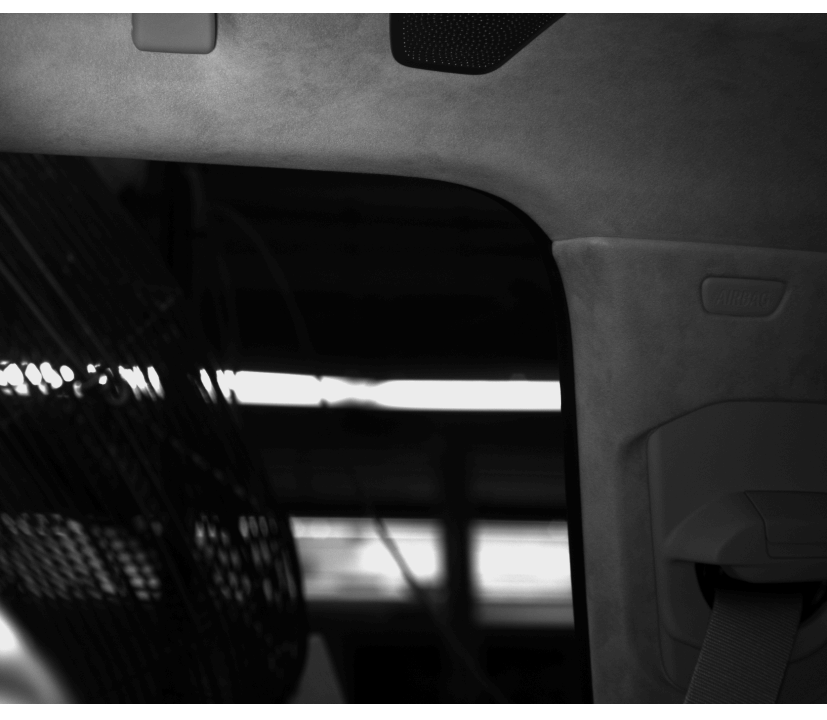camerafault: (694, 268, 792, 331)
